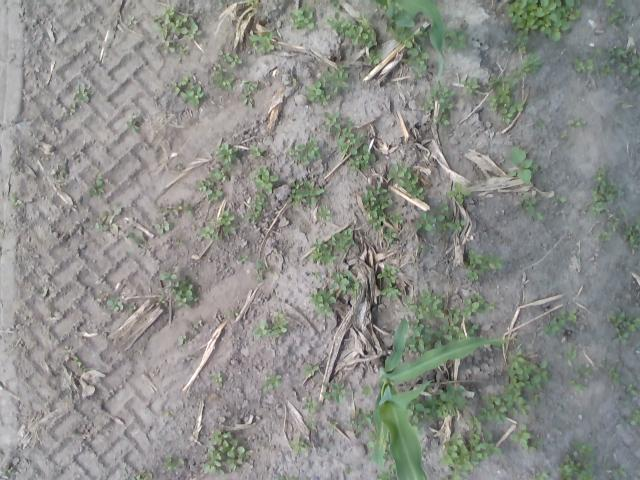Maize: (375, 314, 510, 480), (377, 0, 445, 84)
Weeds: (482, 349, 548, 423), (441, 408, 502, 480), (508, 0, 582, 40), (202, 429, 247, 477), (323, 13, 377, 46), (358, 181, 393, 230), (160, 266, 198, 308), (389, 163, 424, 200), (346, 130, 378, 170), (154, 14, 199, 40), (286, 138, 322, 164), (508, 146, 532, 185), (424, 82, 454, 112), (418, 287, 444, 318), (308, 289, 336, 317), (252, 165, 279, 193), (309, 239, 337, 265), (591, 182, 625, 202), (324, 65, 348, 93), (334, 124, 358, 152), (244, 192, 266, 222), (440, 384, 468, 407), (462, 292, 486, 318), (291, 4, 315, 29), (376, 262, 401, 286), (404, 46, 428, 70), (180, 81, 203, 106), (544, 310, 566, 336), (102, 206, 124, 232), (268, 311, 290, 336), (560, 453, 580, 480), (348, 408, 370, 432), (446, 183, 471, 204), (615, 311, 640, 332), (509, 423, 531, 446), (622, 224, 640, 252), (250, 33, 276, 52), (253, 259, 274, 281), (216, 143, 238, 164), (336, 228, 354, 253), (487, 69, 520, 82), (409, 403, 430, 423), (482, 252, 504, 271), (414, 212, 436, 231), (299, 180, 324, 196), (446, 31, 467, 50), (522, 52, 540, 74), (74, 84, 96, 102), (304, 81, 322, 102), (333, 271, 349, 294), (436, 324, 452, 346), (323, 111, 341, 130), (253, 318, 270, 338), (606, 8, 624, 26), (570, 440, 593, 454), (197, 227, 220, 241), (156, 202, 182, 214), (330, 381, 344, 403), (462, 77, 479, 95), (521, 194, 536, 214), (398, 28, 414, 46), (496, 84, 511, 103), (468, 248, 483, 267), (88, 180, 105, 196), (218, 209, 234, 226), (365, 50, 383, 64), (608, 46, 622, 64), (594, 164, 608, 182), (608, 214, 622, 232), (379, 286, 400, 298), (214, 168, 232, 182), (386, 27, 405, 40), (628, 56, 640, 76), (301, 397, 317, 412), (266, 372, 281, 388), (290, 438, 307, 452), (596, 229, 614, 242), (436, 109, 450, 125), (316, 204, 330, 220), (407, 332, 423, 346), (126, 232, 142, 246), (422, 325, 434, 343), (449, 219, 468, 230), (240, 90, 253, 106), (613, 331, 629, 344), (289, 178, 302, 194), (198, 179, 214, 192), (302, 364, 319, 376), (95, 211, 106, 229), (390, 210, 403, 225), (612, 468, 628, 480), (290, 193, 306, 205), (621, 45, 634, 59), (163, 456, 176, 470), (384, 228, 397, 242), (155, 221, 169, 234), (566, 117, 586, 126), (592, 202, 607, 214), (321, 382, 331, 400), (572, 58, 584, 72), (436, 406, 450, 418), (448, 316, 460, 330), (509, 100, 524, 111), (321, 90, 331, 106), (242, 81, 258, 91), (609, 367, 619, 383), (446, 308, 462, 318), (163, 42, 176, 54), (222, 77, 235, 89), (348, 282, 361, 294), (467, 268, 480, 280), (212, 72, 223, 86), (580, 469, 594, 480), (108, 301, 122, 312), (208, 189, 222, 200), (502, 109, 512, 124), (424, 396, 439, 406), (466, 324, 479, 335), (231, 54, 242, 67), (570, 380, 584, 390), (535, 470, 549, 480), (410, 320, 424, 330), (553, 194, 565, 205), (185, 205, 197, 216), (126, 122, 139, 132), (600, 66, 613, 76), (362, 384, 372, 397), (406, 300, 416, 313), (438, 222, 451, 232), (376, 473, 394, 480), (487, 95, 498, 106), (568, 308, 578, 320), (454, 330, 466, 340), (250, 146, 262, 156), (126, 15, 136, 26), (222, 52, 232, 63), (604, 0, 615, 10), (484, 300, 495, 310), (223, 226, 234, 236), (439, 201, 449, 212), (214, 64, 226, 73), (260, 380, 269, 392), (516, 31, 529, 39), (178, 76, 188, 86), (606, 312, 616, 322), (584, 459, 594, 469), (414, 424, 424, 434), (0, 464, 10, 474), (163, 6, 174, 15), (512, 39, 524, 47), (226, 310, 238, 318), (10, 198, 22, 206), (135, 473, 148, 480), (418, 27, 428, 36), (618, 64, 628, 73), (618, 207, 628, 216), (532, 438, 542, 447), (212, 373, 222, 382), (630, 75, 640, 84), (628, 383, 636, 394), (74, 357, 82, 368), (280, 476, 302, 480), (330, 0, 340, 8), (170, 82, 178, 92), (568, 349, 576, 359), (580, 204, 588, 213), (314, 272, 322, 281), (128, 304, 136, 313), (532, 162, 539, 172), (304, 419, 314, 426), (176, 458, 186, 465), (178, 336, 185, 346), (329, 235, 336, 245), (436, 215, 446, 222), (587, 57, 593, 68), (634, 410, 640, 421), (238, 256, 249, 262), (308, 196, 315, 205), (561, 130, 567, 139), (389, 464, 396, 471), (416, 69, 422, 77), (538, 118, 544, 126), (595, 48, 603, 54), (524, 446, 536, 450), (246, 0, 253, 6), (537, 214, 544, 220), (583, 369, 590, 375), (346, 466, 352, 473), (328, 427, 333, 435), (174, 239, 182, 244), (70, 103, 76, 109), (614, 117, 620, 123), (576, 373, 582, 379), (520, 46, 525, 53), (163, 412, 170, 417), (534, 416, 538, 422), (183, 46, 188, 50)
